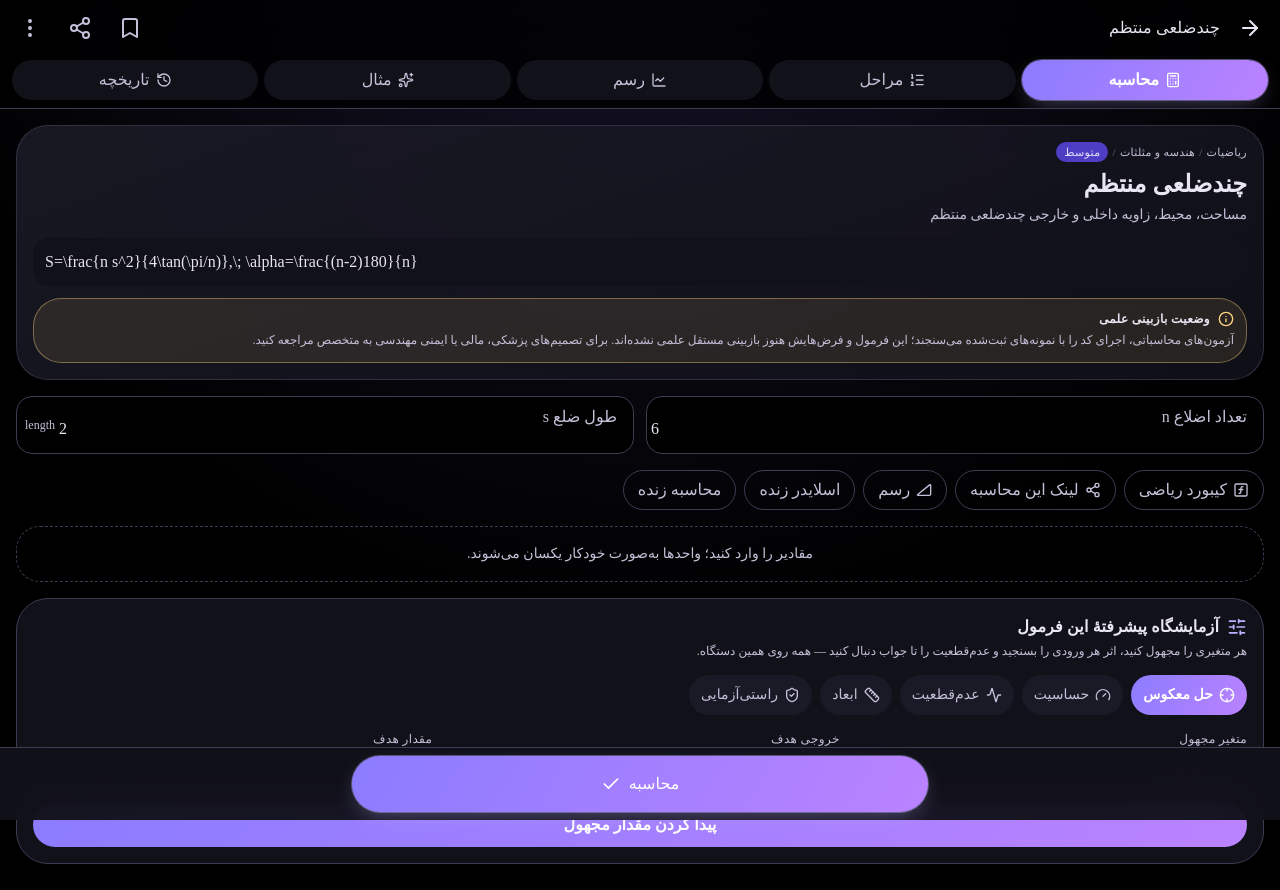
FormulaSolver flow › rejects inputs outside the declared domain
This screenshot has width=1280, height=890.
Replace the text in the field labelled "تعداد اضلاع n" with "1" at (951, 425), box top-left (651, 397), bottom-right (1251, 453)
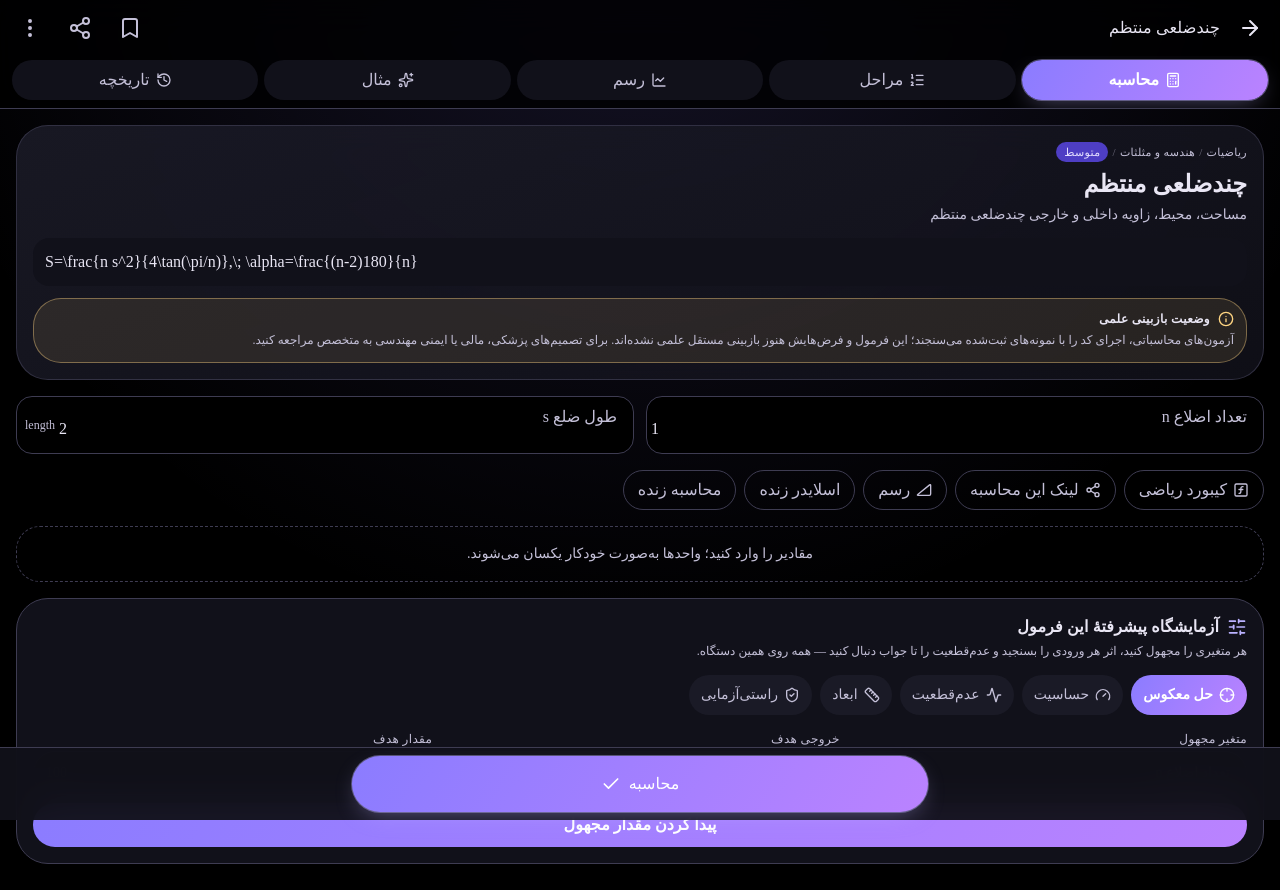
Click the button "محاسبه" at (640, 784), box top-left (352, 756), bottom-right (928, 812)
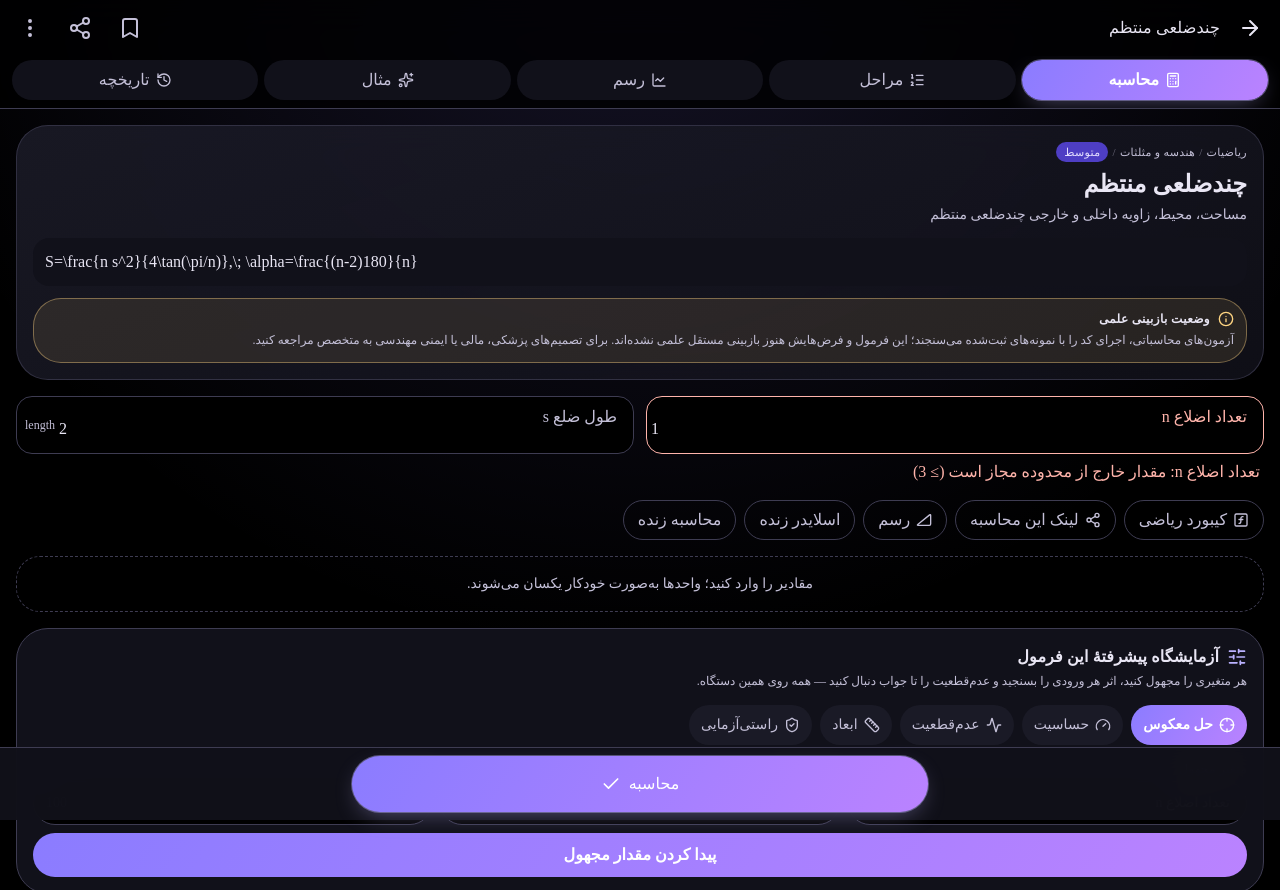
Expected: the text "تعداد اضلاع n: مقدار خارج از محدوده مجاز است (≥ 3)" is shown, top-left (913, 463), bottom-right (1260, 480)
